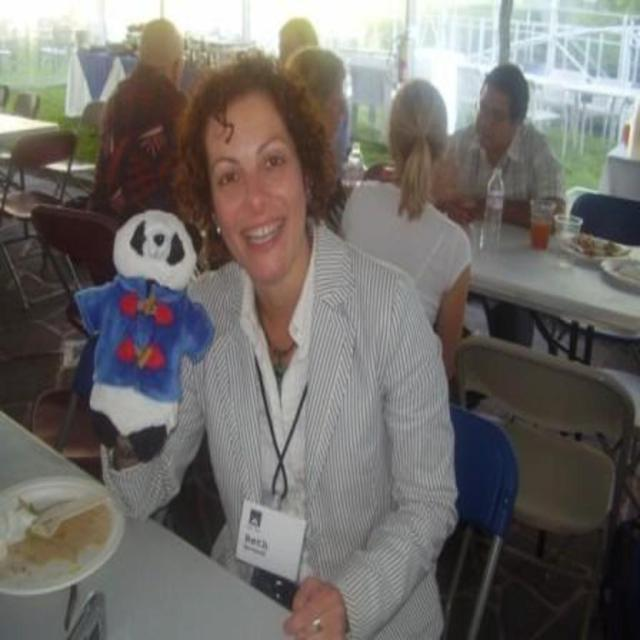panda: (73, 206, 216, 464)
